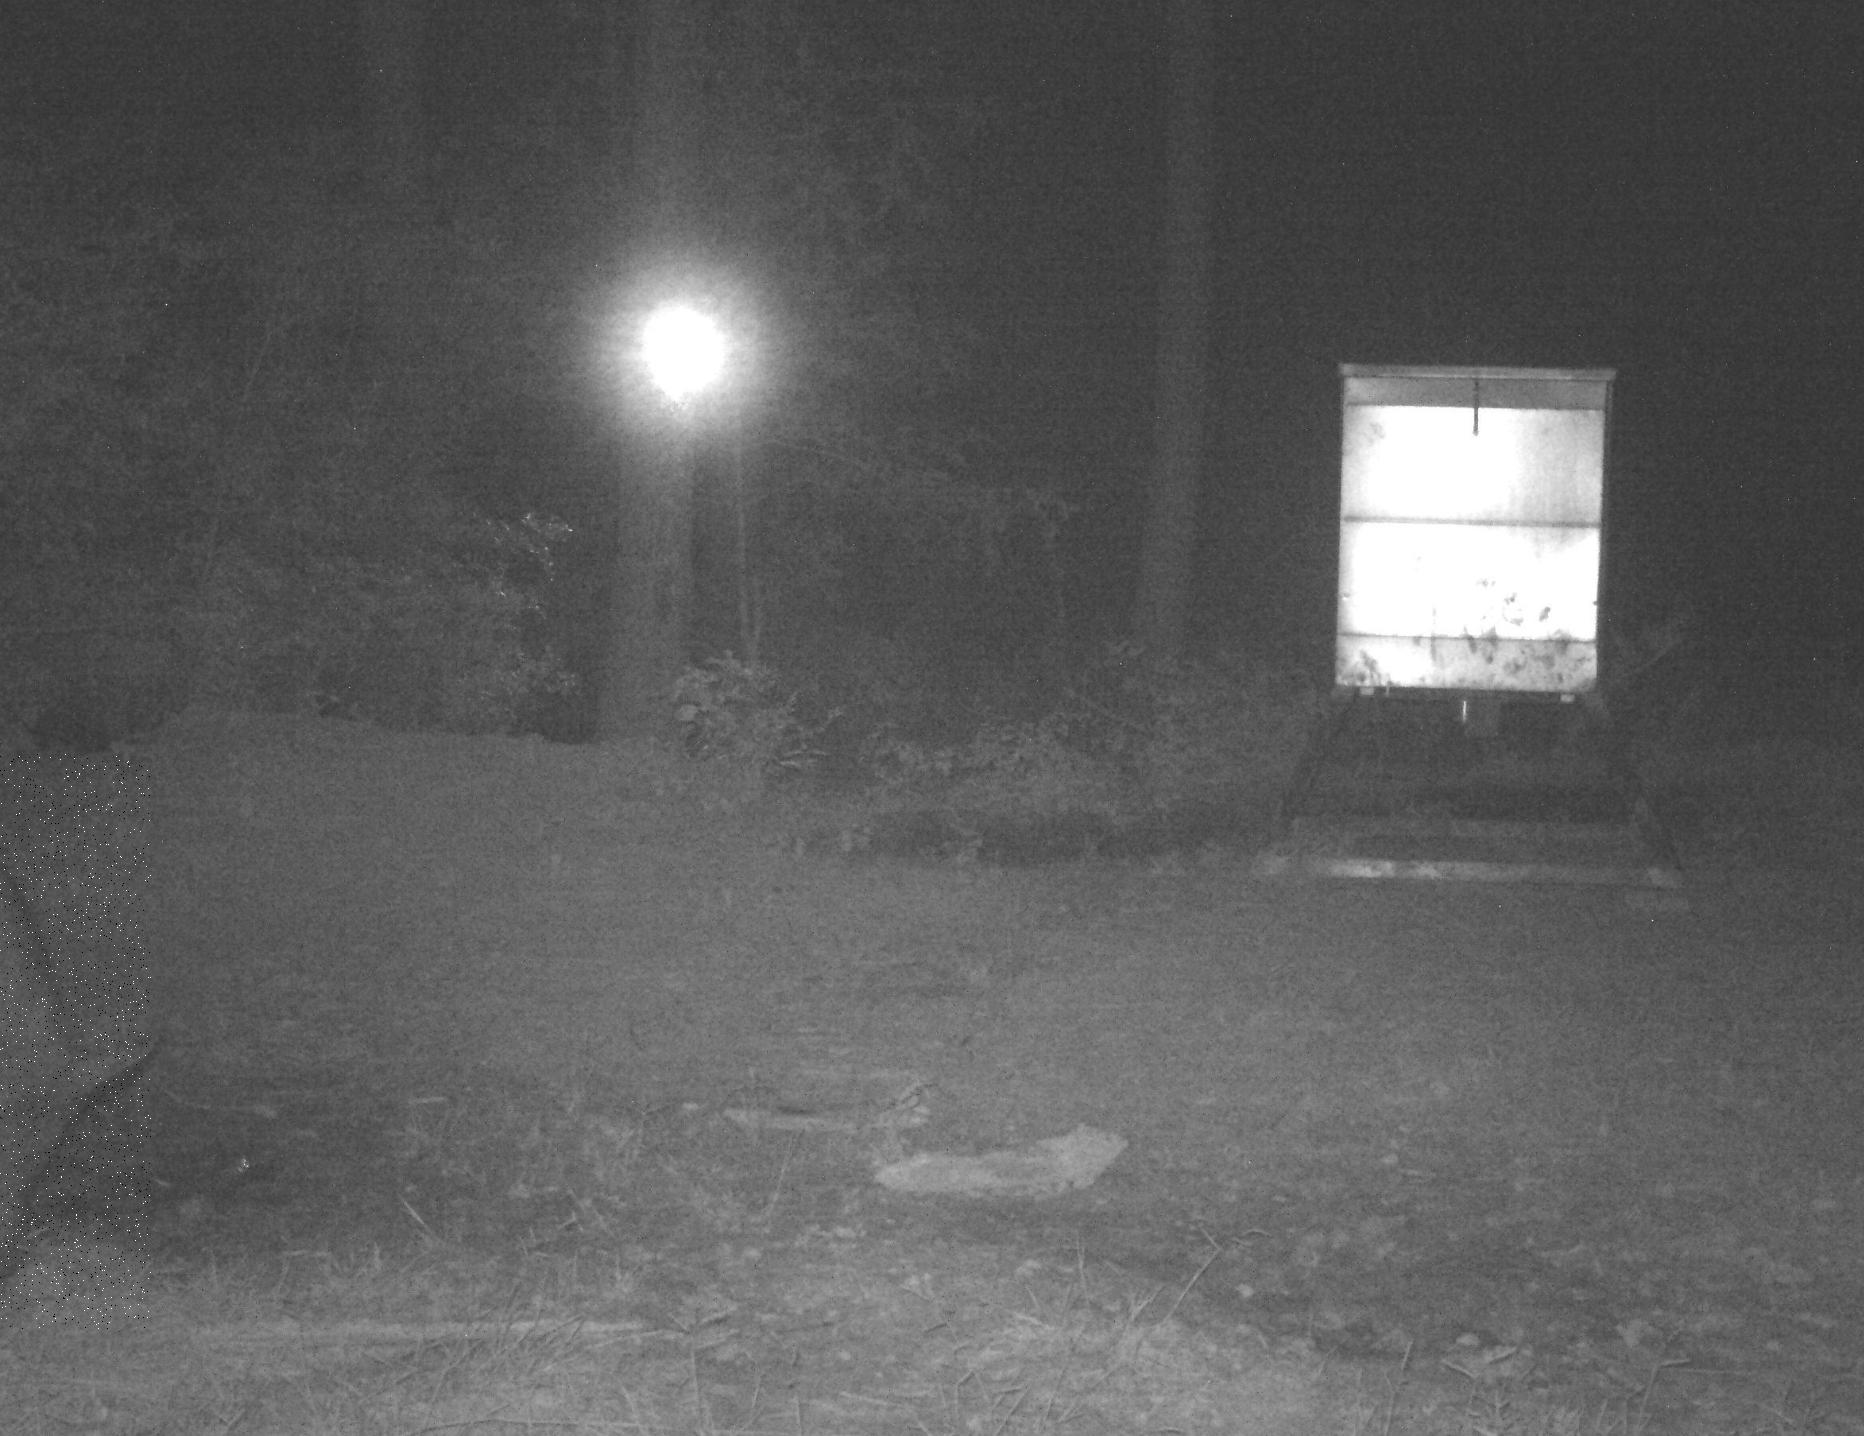Hog: (0, 754, 151, 1329)
